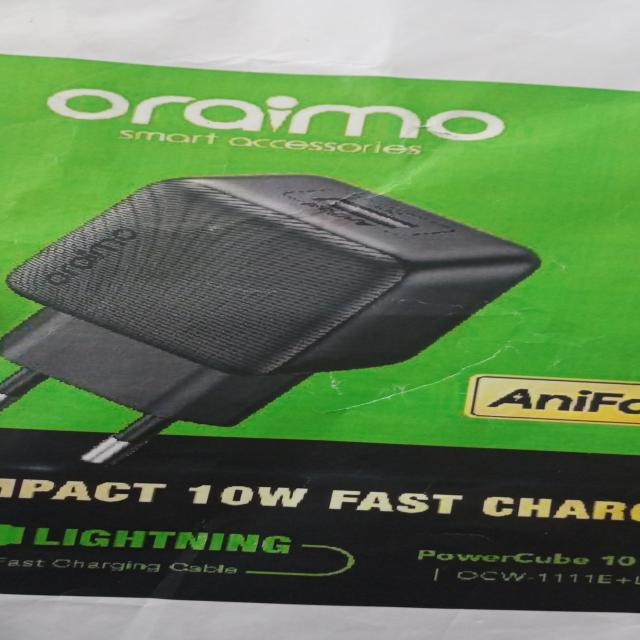PowerCube 10 Sleek OCW-1111ExL53: (397, 543, 640, 596)
